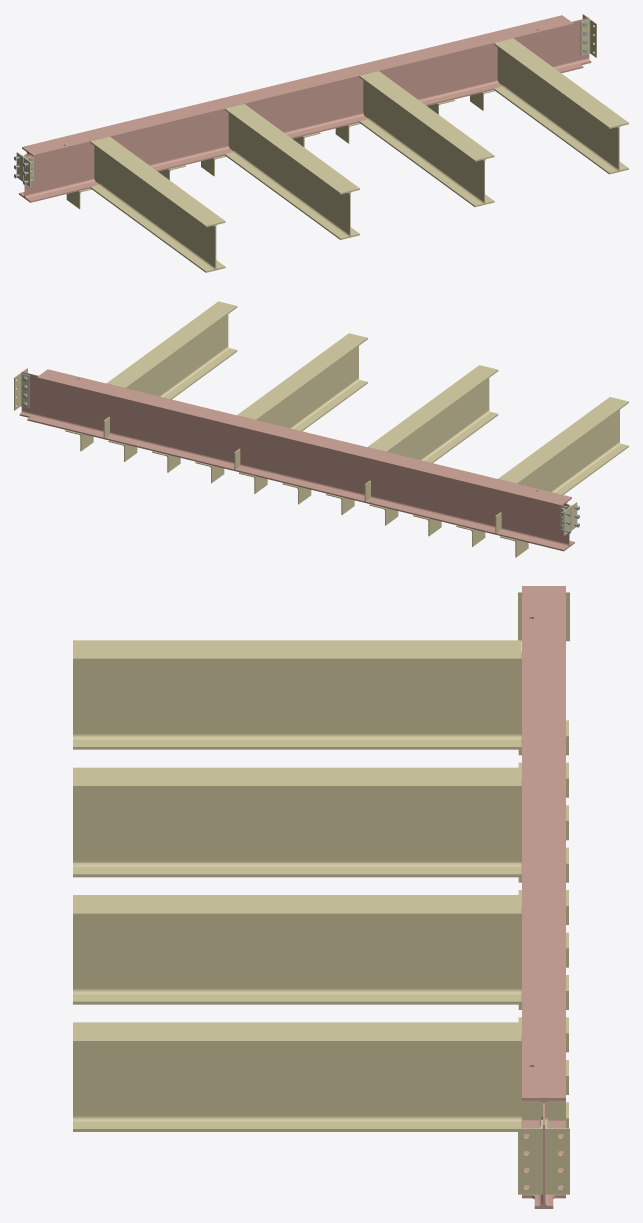
3 renders of one model, top to bottom at view 1: azimuth 30°, elevation 25°; view 2: azimuth 150°, elevation 25°; view 3: azimuth 270°, elevation 25°, orthographic. The views are drawn at different scales.
Visible parts, largest first — view 1: product-91dbbd2f-5135-4f1c-bfa6-2f8de2d75d0a-body, product-77df9c2b-d5e3-4c41-9840-975a7232233a-body, product-828caf94-2815-4b47-b9f9-2a5bcb7187cd-body, product-241fdece-8eb0-4f4b-9a2f-add911b0f7ff-body, product-1199f4a9-1830-4e54-b2cf-f3ca38205af4-body, product-e4d13578-aa68-4ced-8eb7-b4f64a08f104-body; view 2: product-91dbbd2f-5135-4f1c-bfa6-2f8de2d75d0a-body, product-241fdece-8eb0-4f4b-9a2f-add911b0f7ff-body, product-828caf94-2815-4b47-b9f9-2a5bcb7187cd-body, product-1199f4a9-1830-4e54-b2cf-f3ca38205af4-body, product-77df9c2b-d5e3-4c41-9840-975a7232233a-body, product-643ee5a3-ceb9-4086-9a72-847efd3a3762-body; view 3: product-828caf94-2815-4b47-b9f9-2a5bcb7187cd-body, product-241fdece-8eb0-4f4b-9a2f-add911b0f7ff-body, product-77df9c2b-d5e3-4c41-9840-975a7232233a-body, product-1199f4a9-1830-4e54-b2cf-f3ca38205af4-body, product-91dbbd2f-5135-4f1c-bfa6-2f8de2d75d0a-body, product-e4d13578-aa68-4ced-8eb7-b4f64a08f104-body, product-643ee5a3-ceb9-4086-9a72-847efd3a3762-body.
Boxes of the visible parts, x1,y1,x2,y2 form: product-91dbbd2f-5135-4f1c-bfa6-2f8de2d75d0a-body: [19, 15, 591, 202]; product-77df9c2b-d5e3-4c41-9840-975a7232233a-body: [90, 136, 225, 272]; product-828caf94-2815-4b47-b9f9-2a5bcb7187cd-body: [225, 104, 359, 239]; product-241fdece-8eb0-4f4b-9a2f-add911b0f7ff-body: [494, 38, 628, 174]; product-1199f4a9-1830-4e54-b2cf-f3ca38205af4-body: [359, 71, 494, 207]; product-e4d13578-aa68-4ced-8eb7-b4f64a08f104-body: [580, 19, 596, 57]; product-91dbbd2f-5135-4f1c-bfa6-2f8de2d75d0a-body: [19, 369, 574, 551]; product-241fdece-8eb0-4f4b-9a2f-add911b0f7ff-body: [106, 301, 237, 399]; product-828caf94-2815-4b47-b9f9-2a5bcb7187cd-body: [367, 365, 498, 462]; product-1199f4a9-1830-4e54-b2cf-f3ca38205af4-body: [237, 333, 367, 431]; product-77df9c2b-d5e3-4c41-9840-975a7232233a-body: [498, 397, 628, 494]; product-643ee5a3-ceb9-4086-9a72-847efd3a3762-body: [14, 373, 29, 410]; product-828caf94-2815-4b47-b9f9-2a5bcb7187cd-body: [73, 767, 521, 877]; product-241fdece-8eb0-4f4b-9a2f-add911b0f7ff-body: [73, 1022, 542, 1131]; product-77df9c2b-d5e3-4c41-9840-975a7232233a-body: [73, 640, 521, 749]; product-1199f4a9-1830-4e54-b2cf-f3ca38205af4-body: [73, 895, 521, 1004]; product-91dbbd2f-5135-4f1c-bfa6-2f8de2d75d0a-body: [522, 586, 565, 1208]; product-e4d13578-aa68-4ced-8eb7-b4f64a08f104-body: [518, 1119, 542, 1194]; product-643ee5a3-ceb9-4086-9a72-847efd3a3762-body: [545, 1119, 569, 1194].
Bounding box in the file's own units: 5.18 × 0.5588 × 2.01.
